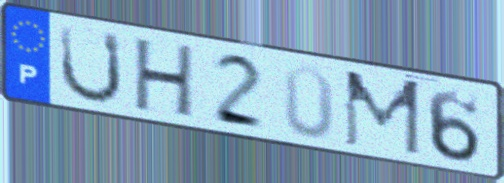0: (281, 62, 337, 142)
2: (206, 54, 269, 131)
6: (425, 86, 483, 164)
H: (131, 36, 198, 122)
M: (341, 68, 423, 159)
U: (57, 22, 126, 106)
